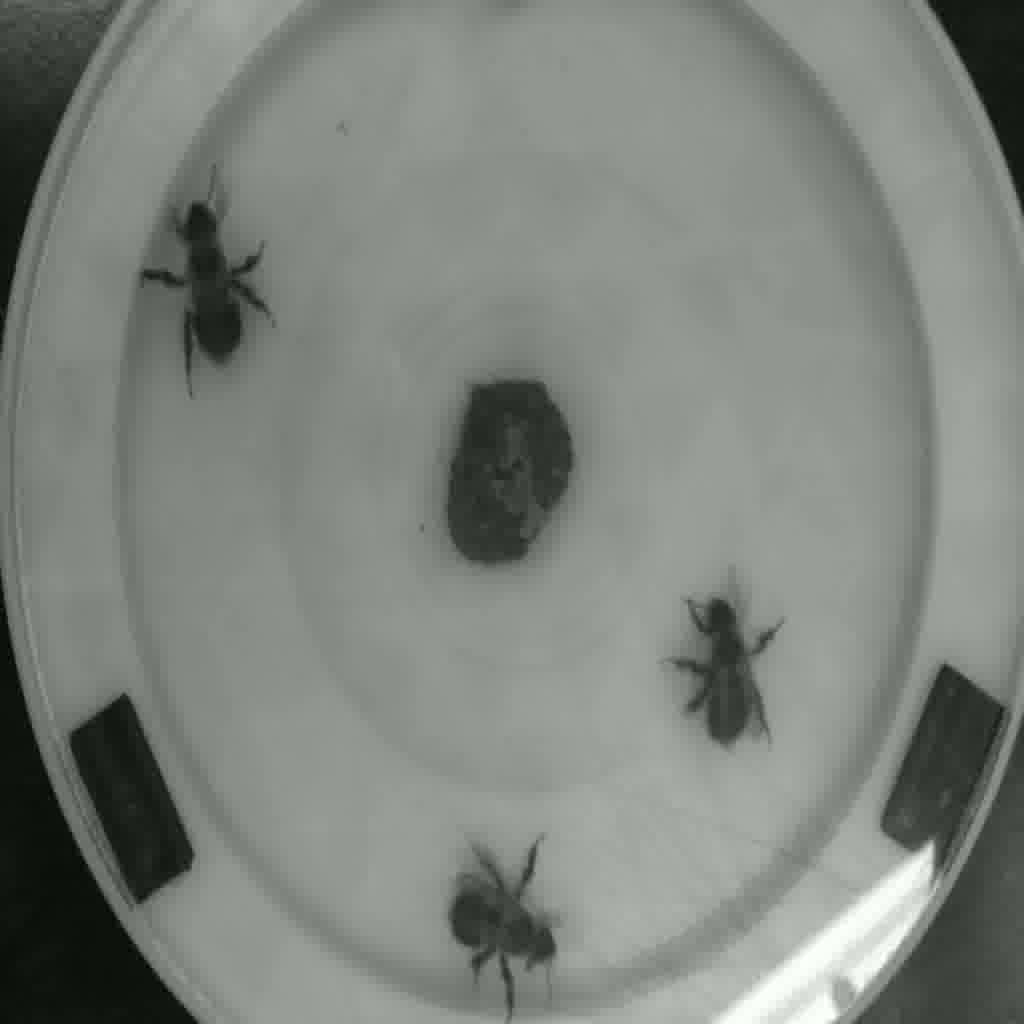bee: (658, 570, 808, 768), (426, 828, 585, 1013), (146, 178, 277, 363)
